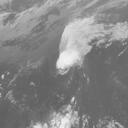cyclone: (55, 35, 86, 75)
